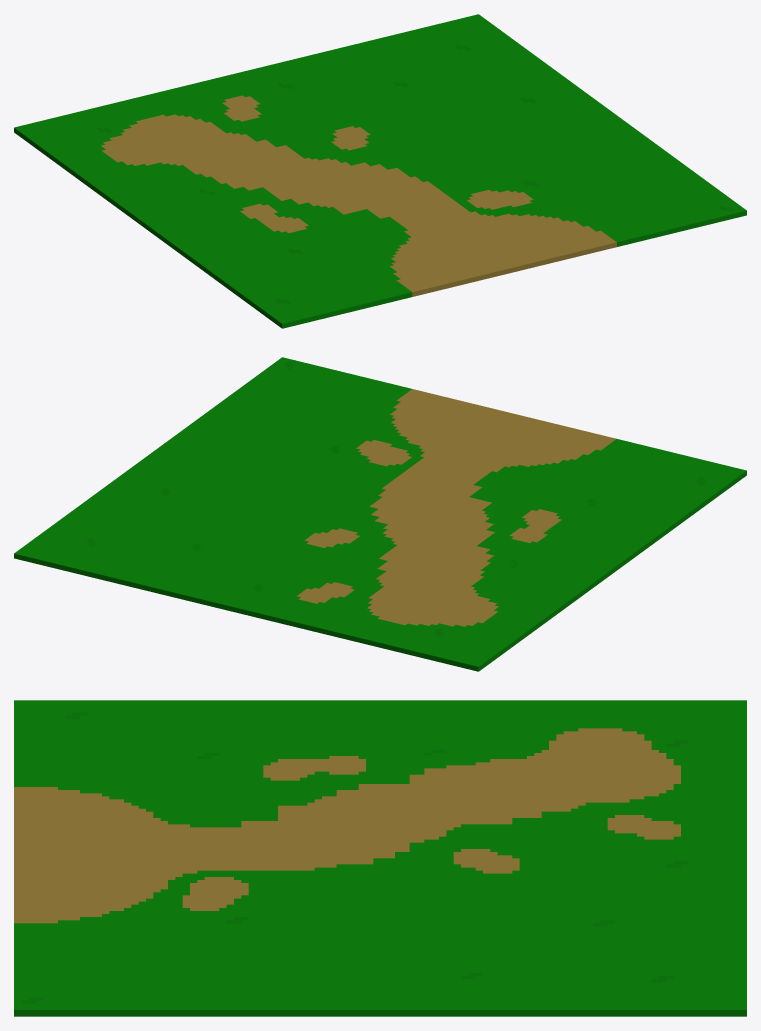
The model's file is path_tile.obj.
The picture shows the model from 3 angles, top to bottom: view 1: azimuth 30°, elevation 25°; view 2: azimuth 150°, elevation 25°; view 3: azimuth 270°, elevation 25°; orthographic projection. The views are drawn at different scales.
Bounding box in the file's own units: 10 × 0.1 × 10.
Materials: 1 (1 with a texture image).
